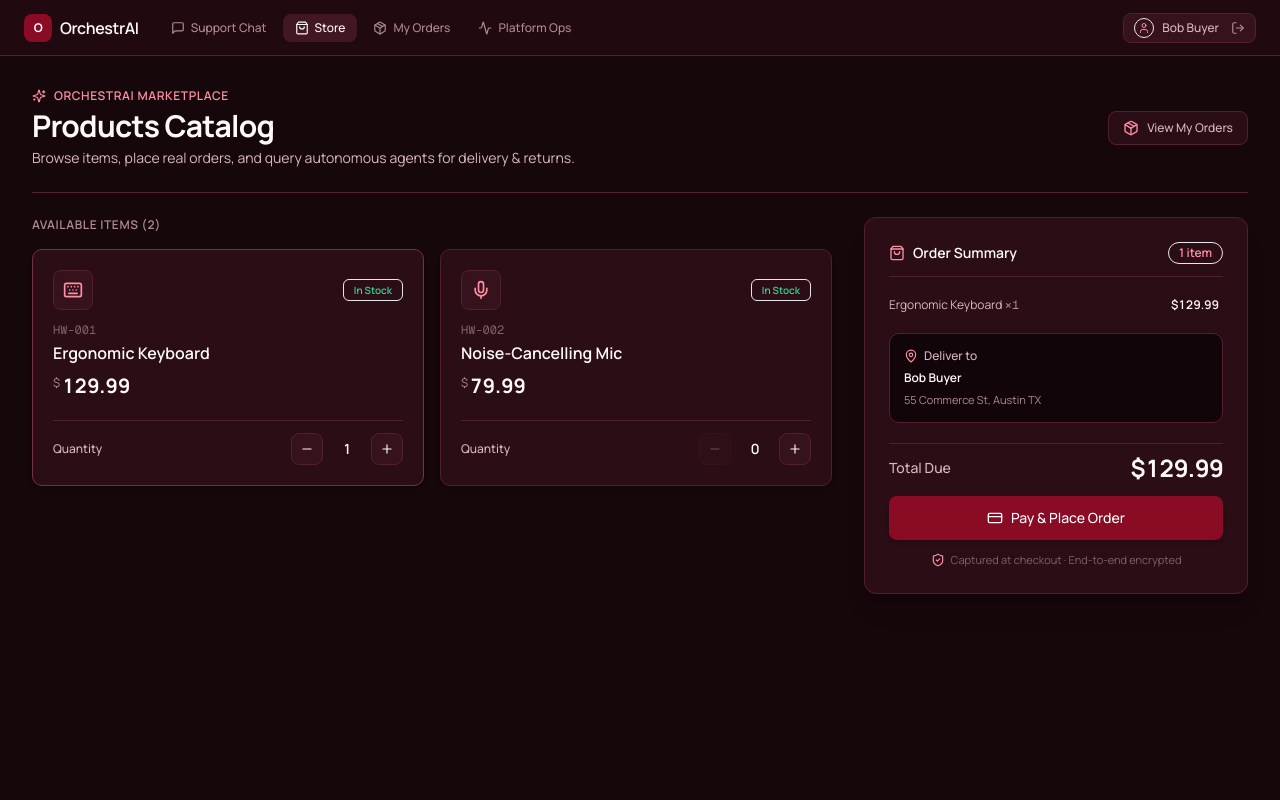
Test case: StorePage › adjusts quantities and recalculates total due
Expected: the heading "Ergonomic Keyboard" is shown, x1=53 y1=342 x2=210 y2=364
// Add 1 unit of product 102 ($79.99)
Click the button with test id "qty-plus-prod-102". click: coordinates (795, 449)
box: x1=779 y1=433 x2=811 y2=465
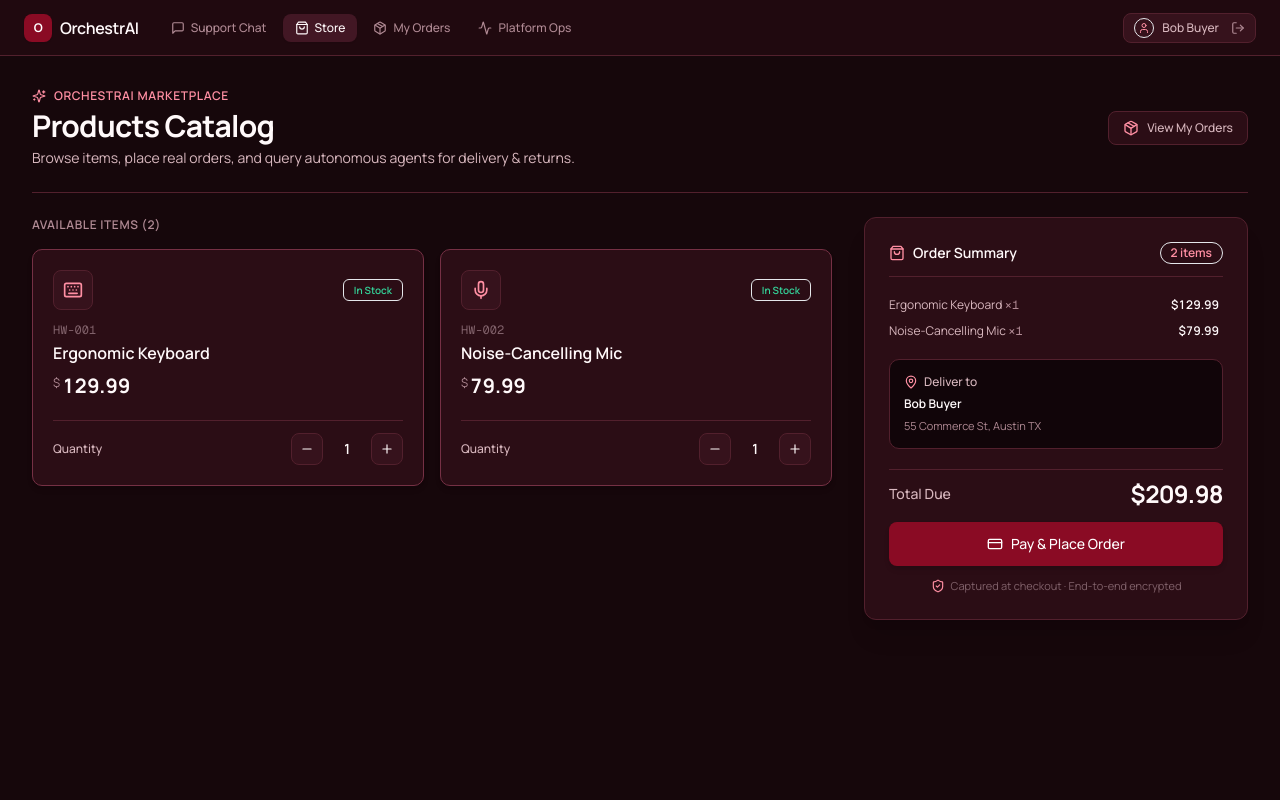
Now the text with test id "qty-count-prod-102" reads "1", box x1=751 y1=439 x2=759 y2=458
Now the text with test id "store-cart-total" reads "$209.98", box x1=1130 y1=478 x2=1223 y2=510
